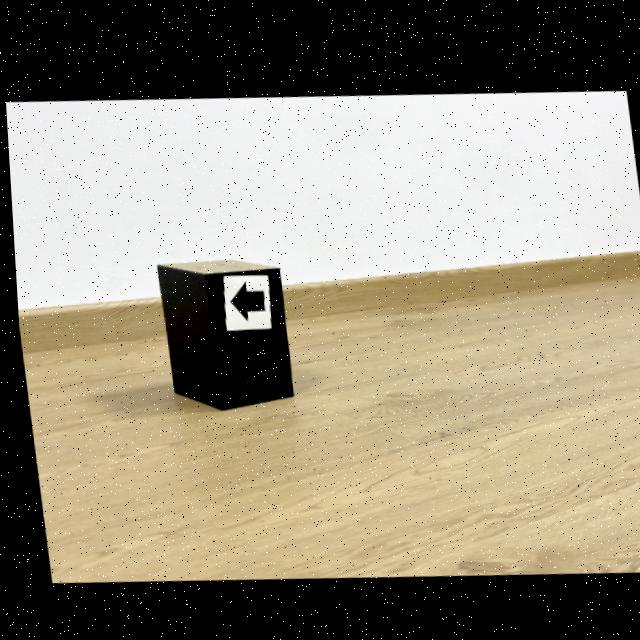LEFT: (226, 279, 261, 319)
